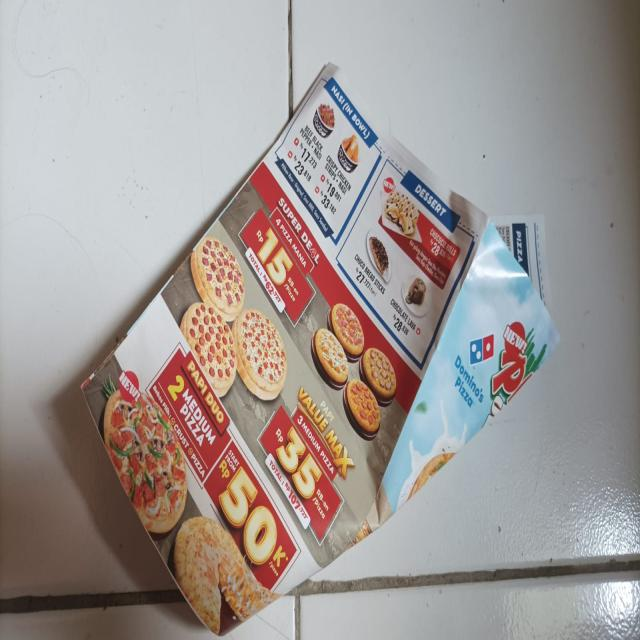Organik: (80, 59, 558, 630)
